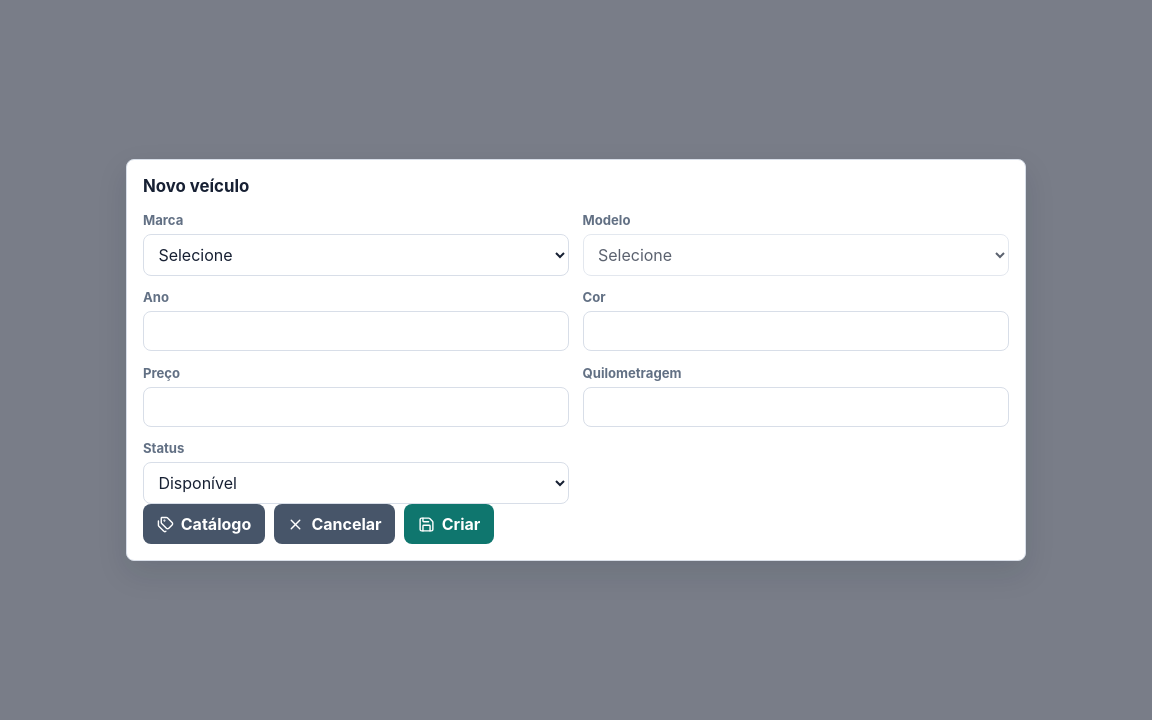
VehicleForm › rejects prices with more than two decimal places
Select "Toyota" in the dropdown labelled "Marca" at (356, 255), box [143,234,569,276]
Select "Corolla" in the dropdown labelled "Modelo" at (796, 255), box [582,234,1009,276]
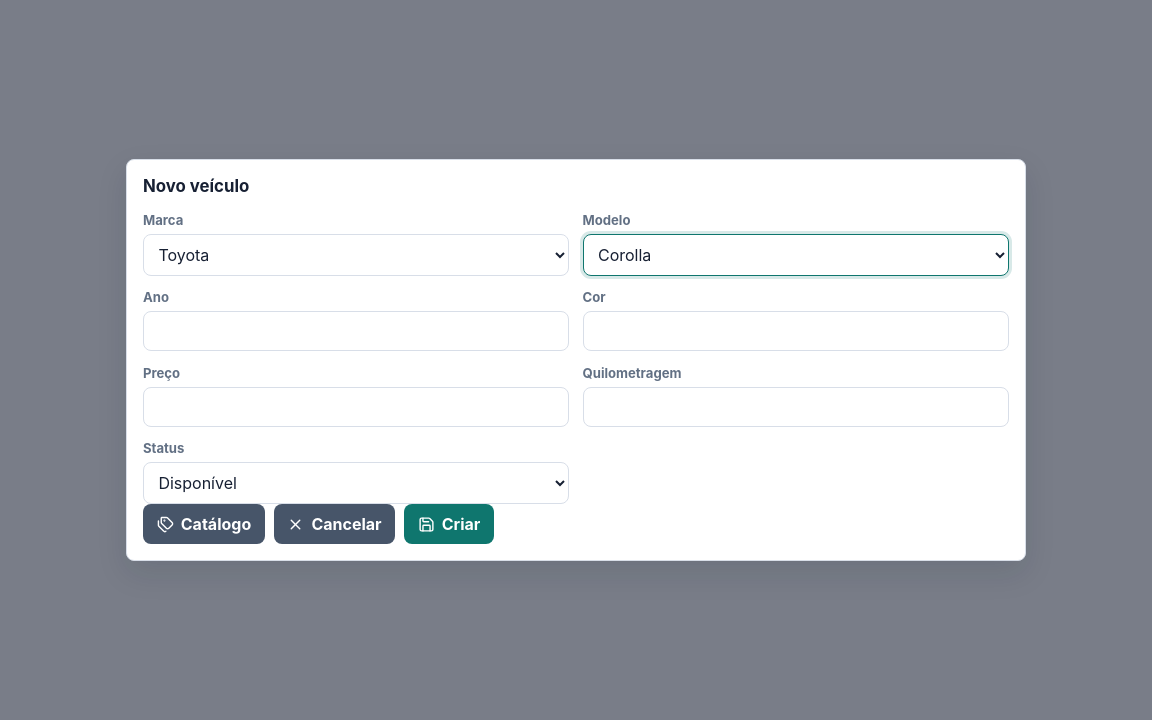
Type "2024" into the number field labelled "Ano" at (356, 331), box [143,311,569,351]
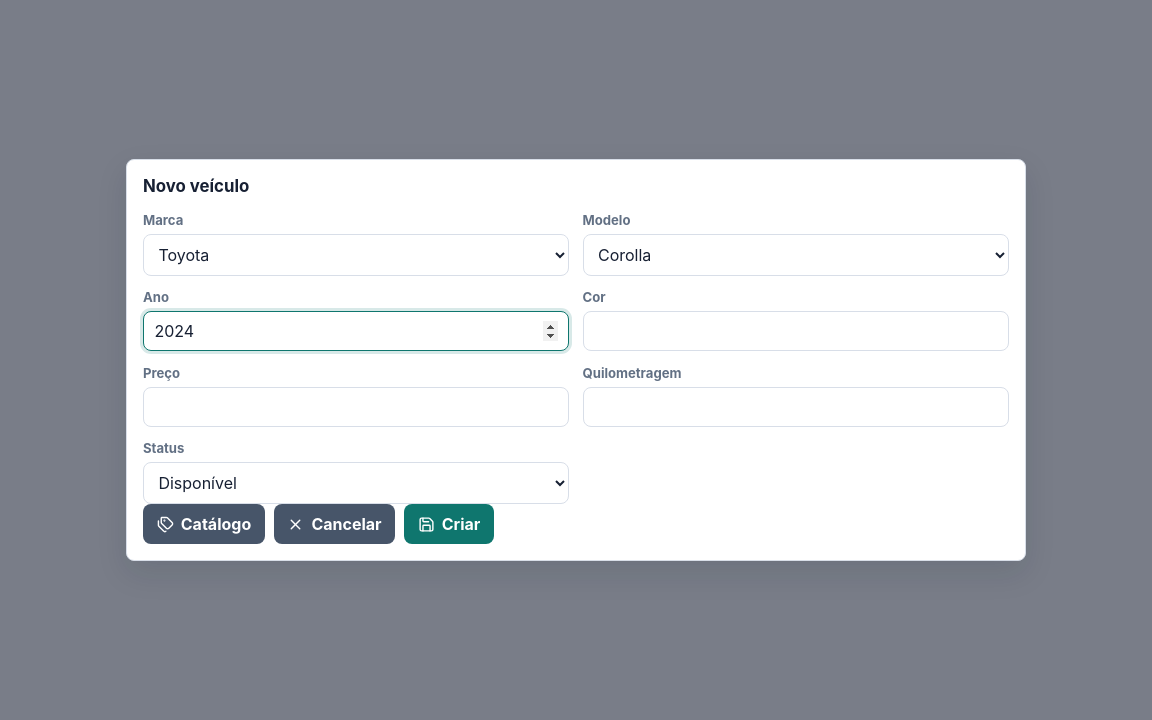
Type "Prata" into the field labelled "Cor" at (796, 331), box [582,311,1009,351]
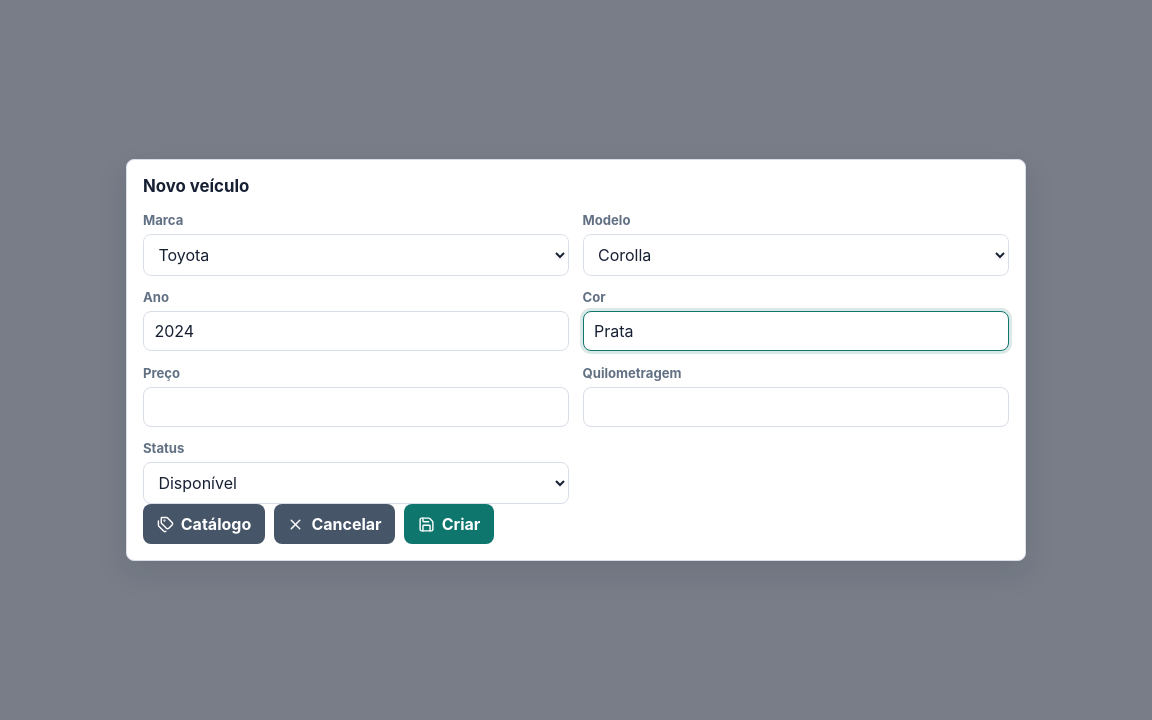
Type "105000.555" into the number field labelled "Preço" at (356, 407), box [143,387,569,427]
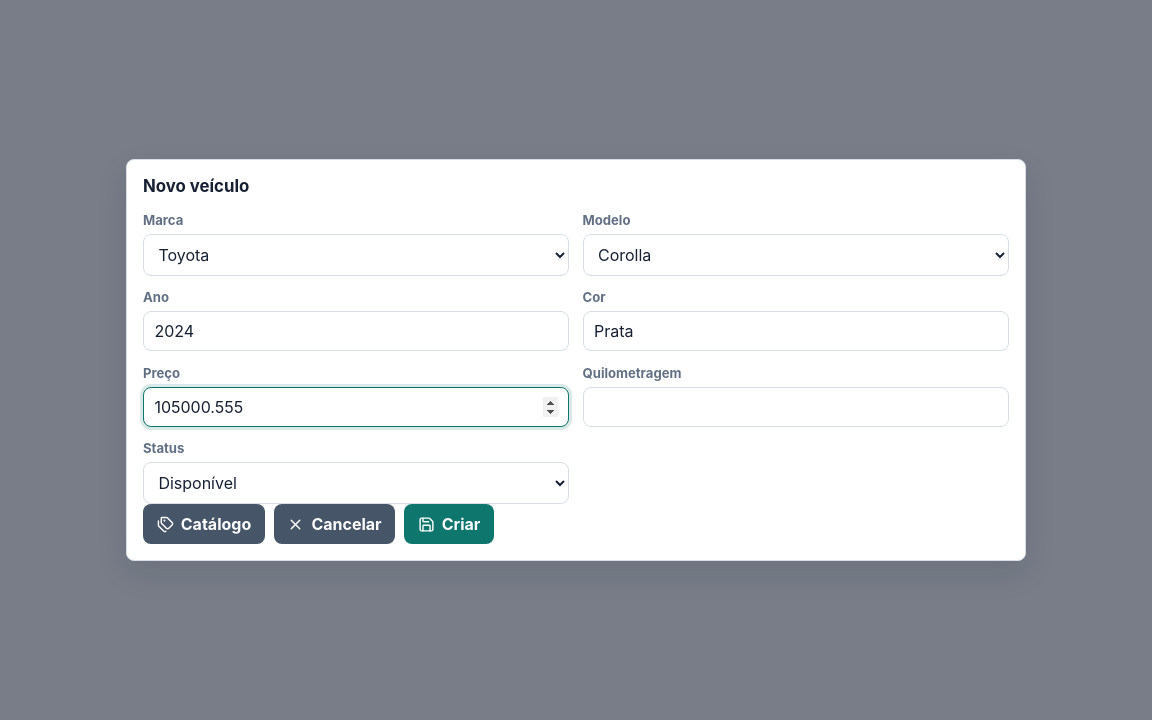
Type "12000" into the number field labelled "Quilometragem" at (796, 407), box [582,387,1009,427]
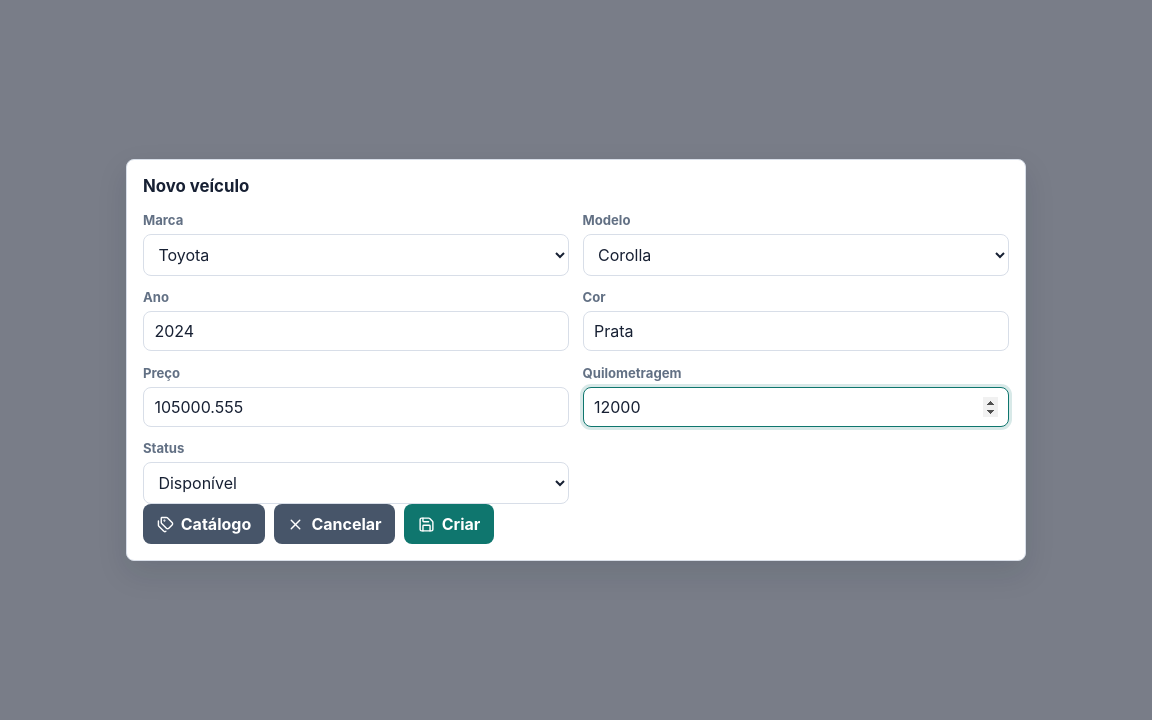
Click the button "Criar" at (449, 524), box [404,504,494,544]
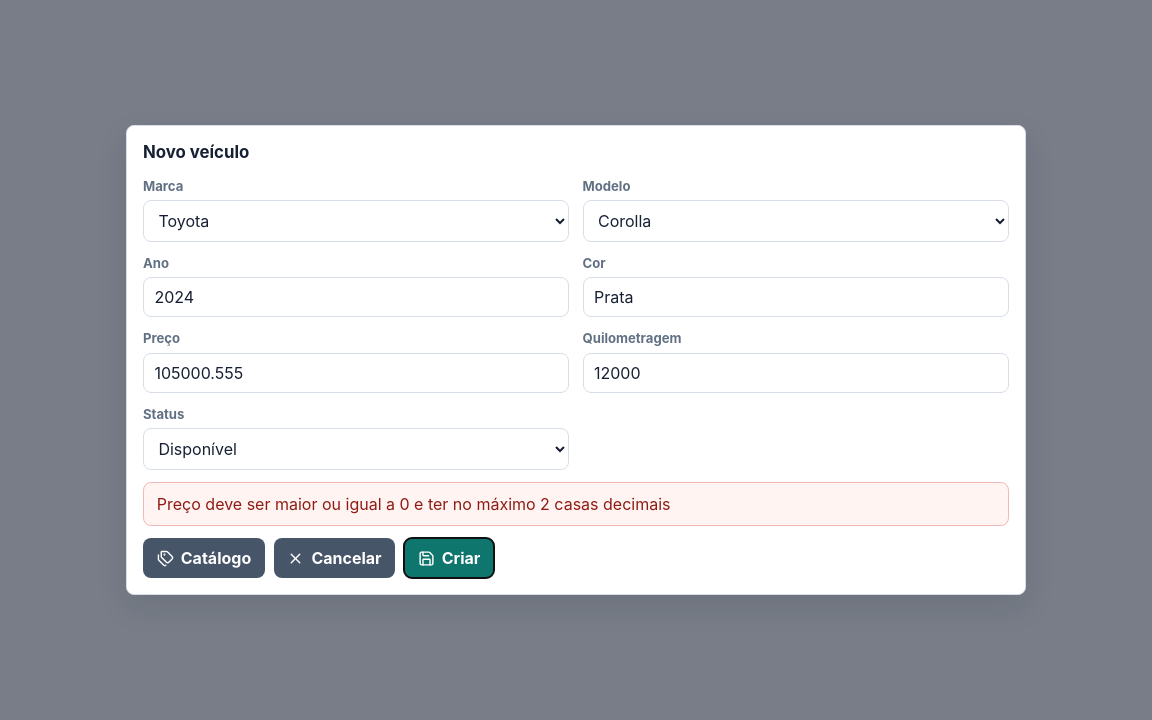
expect the text "Preço deve ser maior ou igual a 0 e ter no máximo 2 casas decimais" is shown: met, box [143,482,1009,526]
